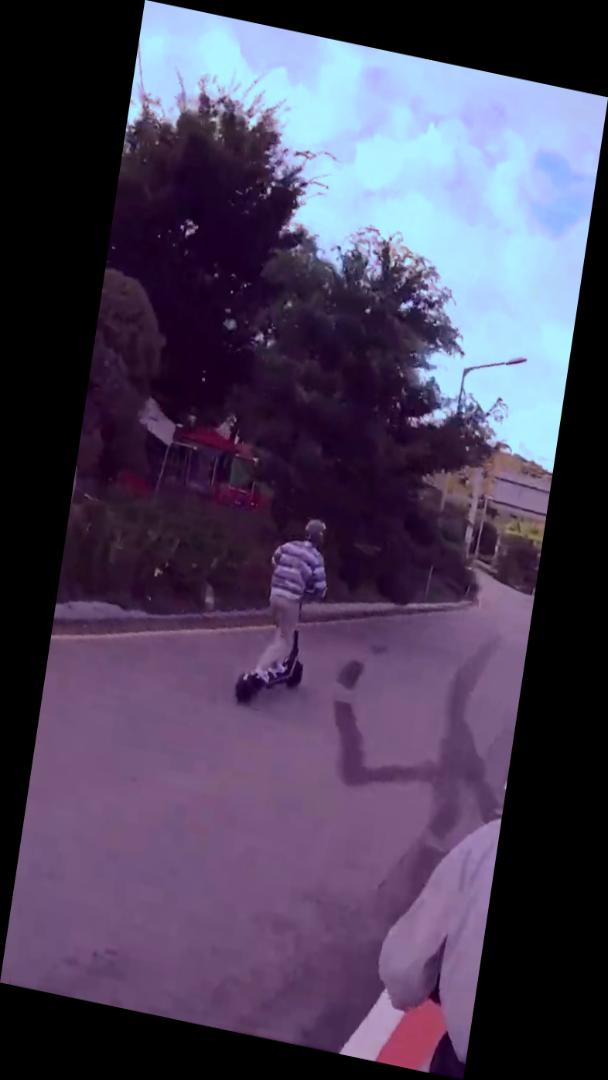helmet: (232, 503, 343, 721)
